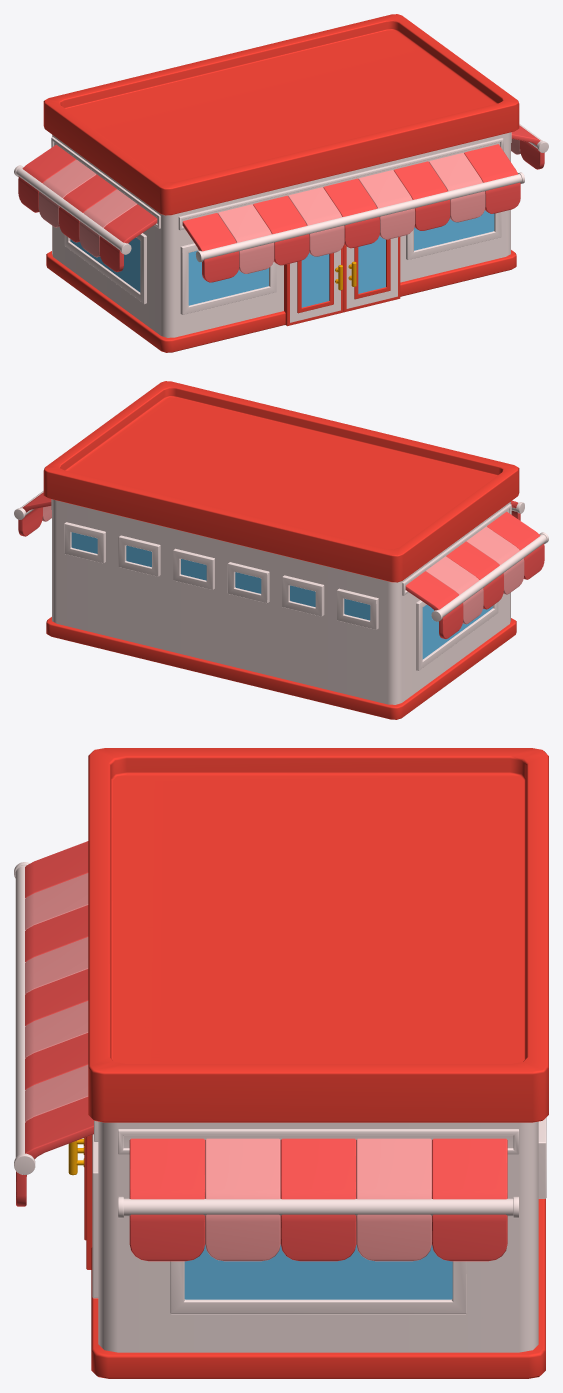
Rendered from Store_20_Restaurant_1.glb.
3 renders of one model, top to bottom at view 1: azimuth 30°, elevation 25°; view 2: azimuth 150°, elevation 25°; view 3: azimuth 270°, elevation 25°, orthographic. The views are drawn at different scales.
Parts seen in each view (by area): view 1: Store_20_Restaurant_1; view 2: Store_20_Restaurant_1; view 3: Store_20_Restaurant_1.
Boxes of the visible parts, x1=… form: Store_20_Restaurant_1: x1=14, y1=14, x2=548, y2=352; Store_20_Restaurant_1: x1=14, y1=381, x2=548, y2=719; Store_20_Restaurant_1: x1=14, y1=748, x2=548, y2=1378.
Bounding box in the file's own units: 13.32 × 4.94 × 7.76.
1 material, 1 textured.
